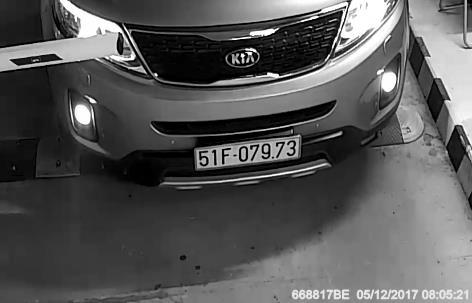License-plate: (182, 134, 313, 182)
